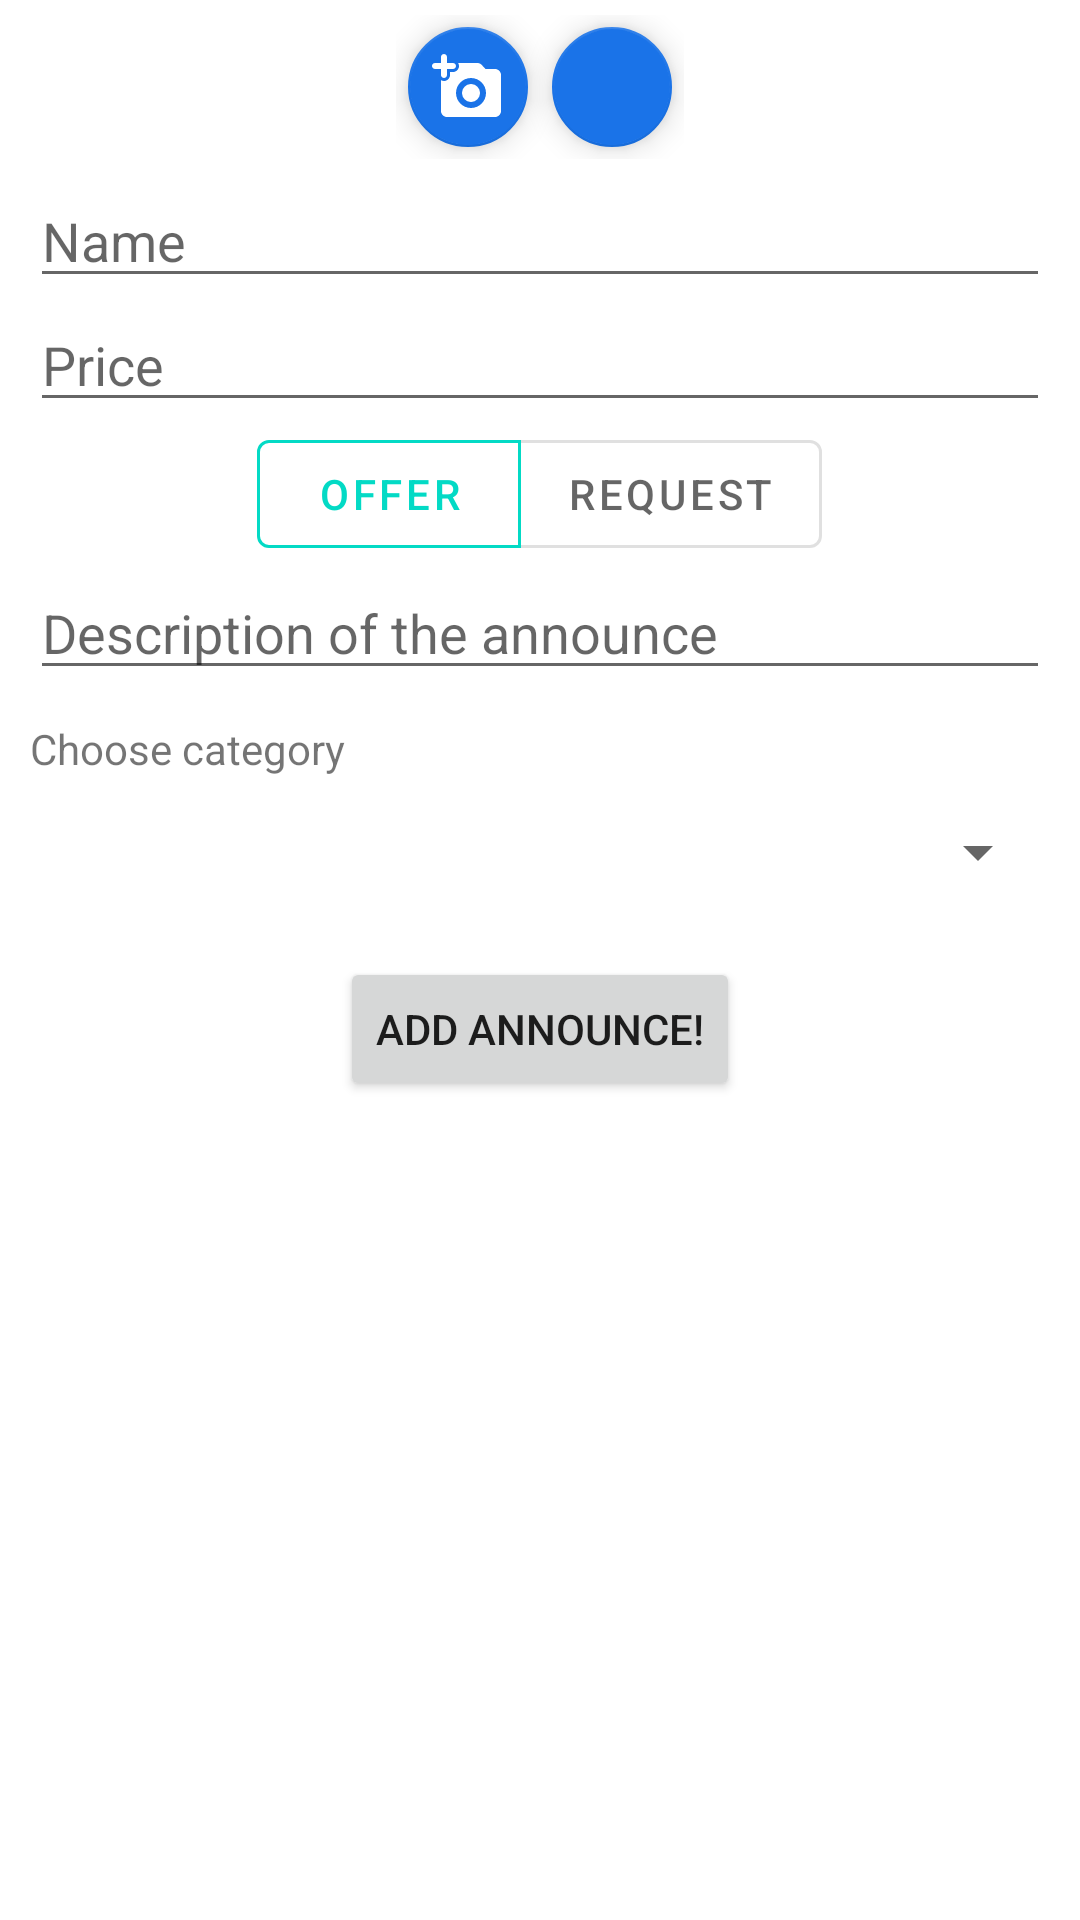

Icons on this 1080w x 1920h Android screen, each with its box as (x1, y1, x2, y2):
Take a picture: (408, 27, 528, 147)
